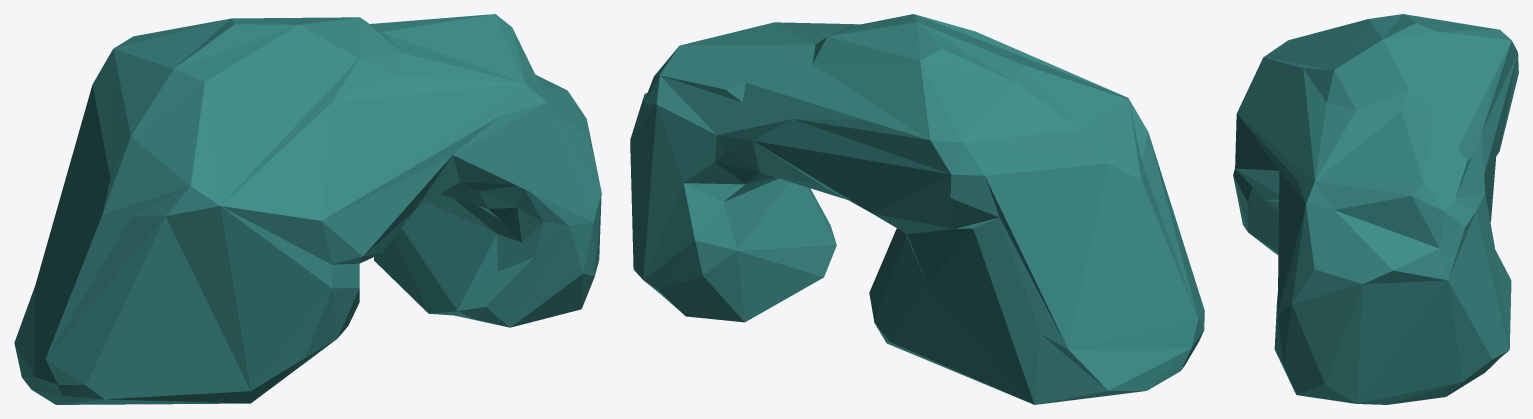
File: SM_Rock_Sea_Medium_Tunnel_A.fbx
The picture shows the model from 3 angles, left to right: view 1: azimuth 30°, elevation 25°; view 2: azimuth 150°, elevation 25°; view 3: azimuth 270°, elevation 25°; orthographic projection. The views are drawn at different scales.
Parts seen in each view (by area): view 1: rock-sea-medium-tunnel-a; view 2: rock-sea-medium-tunnel-a; view 3: rock-sea-medium-tunnel-a.
Part boxes in pixels (box(x1,y1,x2,y2)): rock-sea-medium-tunnel-a: box(14, 14, 601, 404); rock-sea-medium-tunnel-a: box(630, 14, 1204, 404); rock-sea-medium-tunnel-a: box(1233, 14, 1518, 404).
Size of the model in its own units: 3.08 by 1.63 by 1.63.
